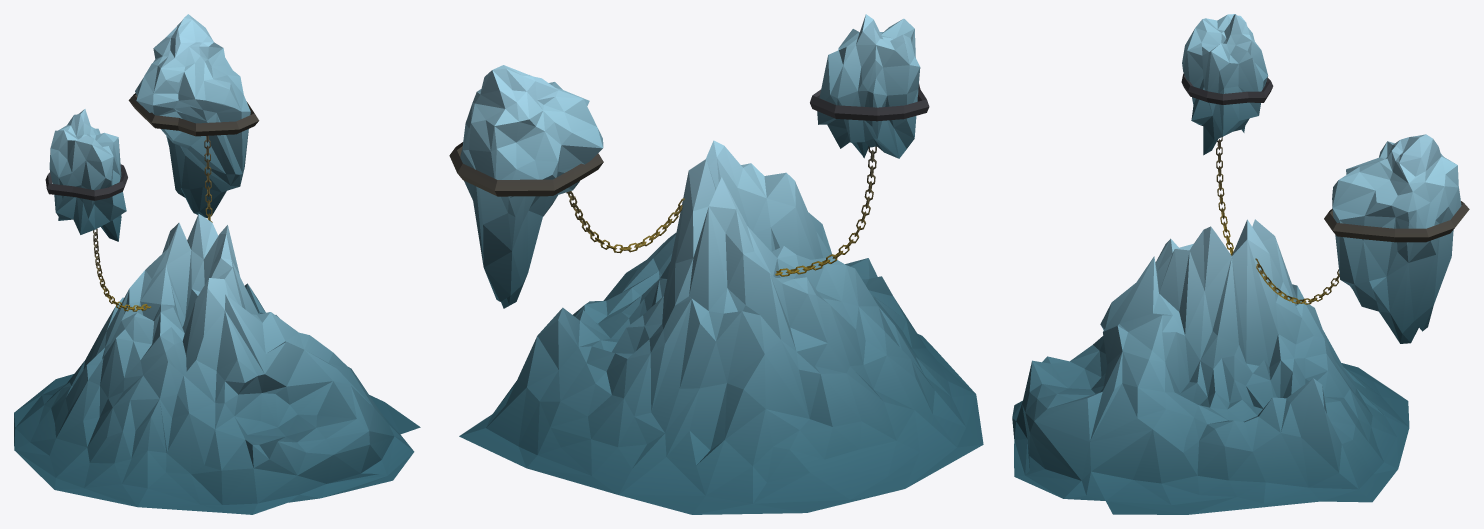
File: Flying_glacier_island (1).fbx
The picture shows the model from 3 angles, left to right: view 1: azimuth 30°, elevation 25°; view 2: azimuth 150°, elevation 25°; view 3: azimuth 270°, elevation 25°; orthographic projection. The views are drawn at different scales.
Visible parts, largest first — view 1: Flying_Glaciers_Island; view 2: Flying_Glaciers_Island; view 3: Flying_Glaciers_Island.
Part boxes in pixels (x1,y1,x2,y2): Flying_Glaciers_Island: (14, 14, 420, 514); Flying_Glaciers_Island: (449, 14, 983, 514); Flying_Glaciers_Island: (1012, 14, 1469, 514).
Size of what is drawn, in the model's own units: 3986 by 3873 by 4463.
